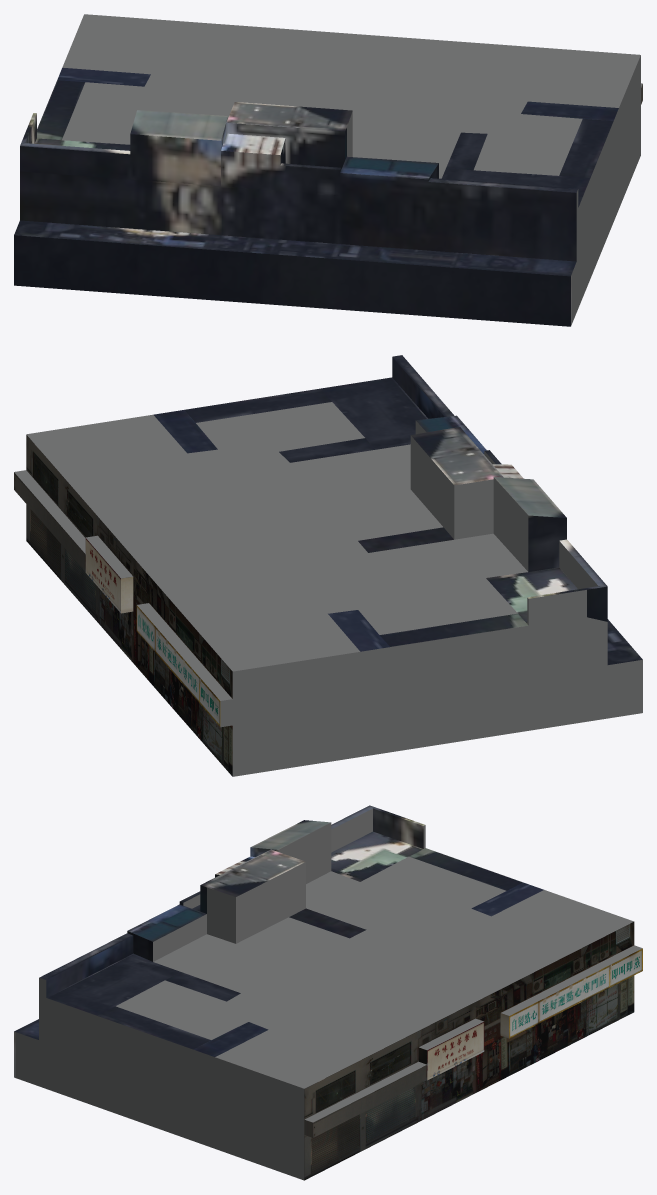
The model's file is input.glb.
The picture shows the model from 3 angles, top to bottom: view 1: azimuth 30°, elevation 25°; view 2: azimuth 150°, elevation 25°; view 3: azimuth 270°, elevation 25°; orthographic projection. The views are drawn at different scales.
Visible parts, largest first — view 1: B351842110002063A0; view 2: B351842110002063A0; view 3: B351842110002063A0.
Part boxes in pixels (x1=…): B351842110002063A0: x1=14, y1=14, x2=642, y2=326; B351842110002063A0: x1=14, y1=355, x2=642, y2=776; B351842110002063A0: x1=14, y1=805, x2=642, y2=1180.
Bounding box in the file's own units: 36.59 × 8.81 × 35.74.
1 material, 1 textured.
